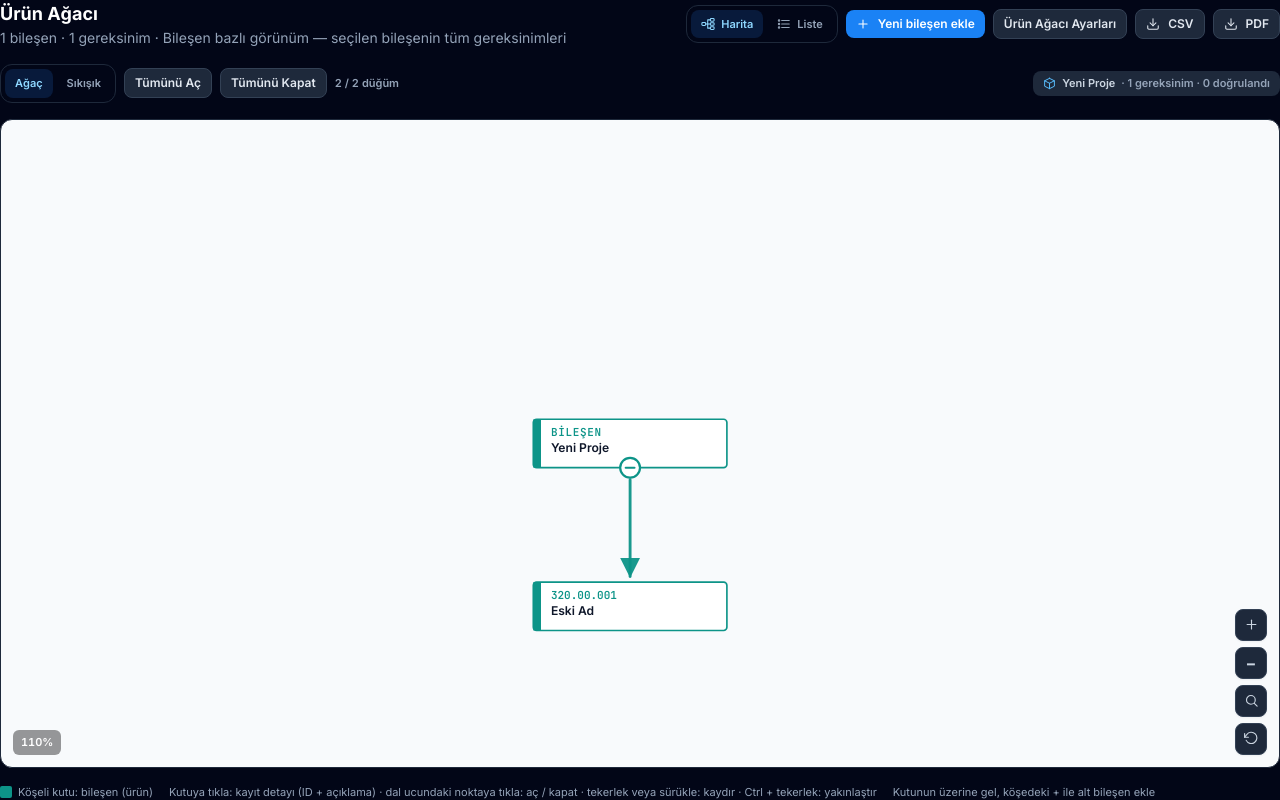
Test: Düzenleme ve silme › bağlı gereksinimi olan bileşende silme UYARISI gösterilir
Click the button with test id "comp-view-list" at point(800, 24), box [767,10,833,38]
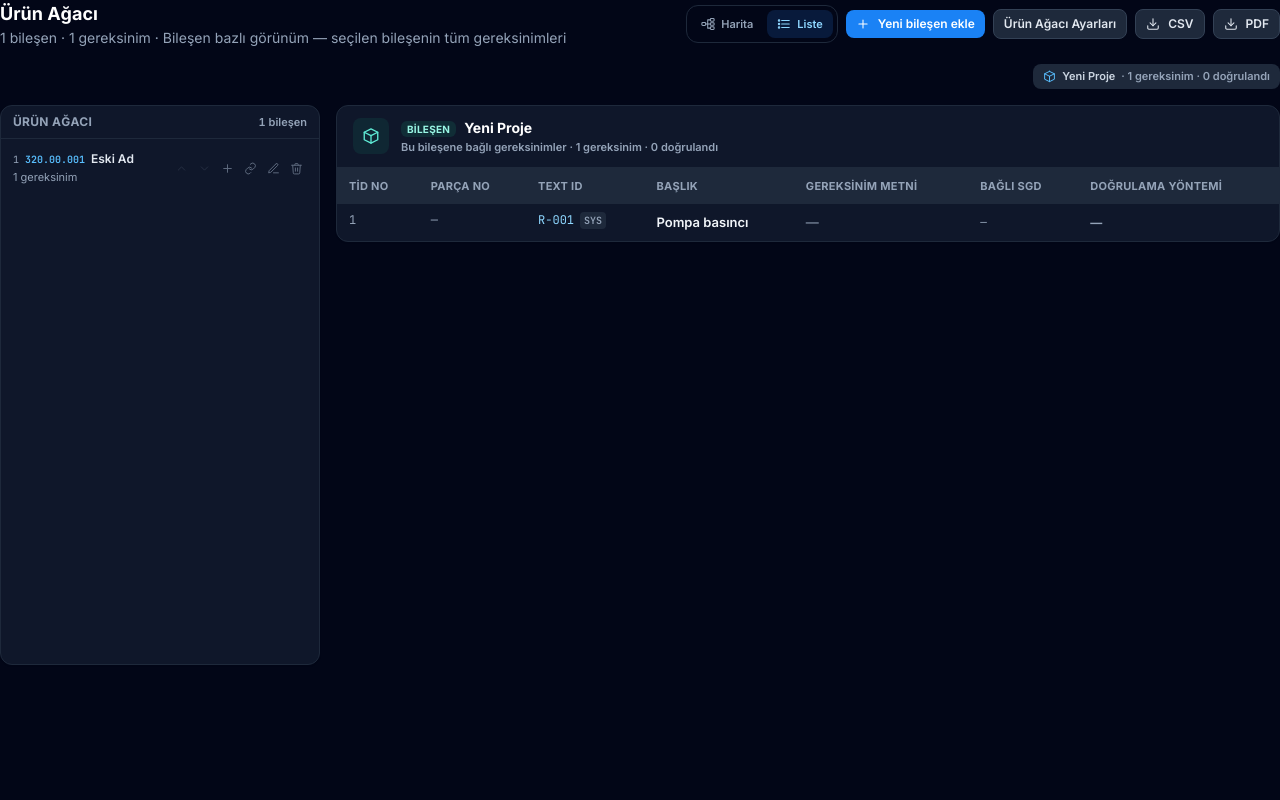
Click the button with test id "comp-delete-c1" at point(296, 168), box [286,158,307,179]
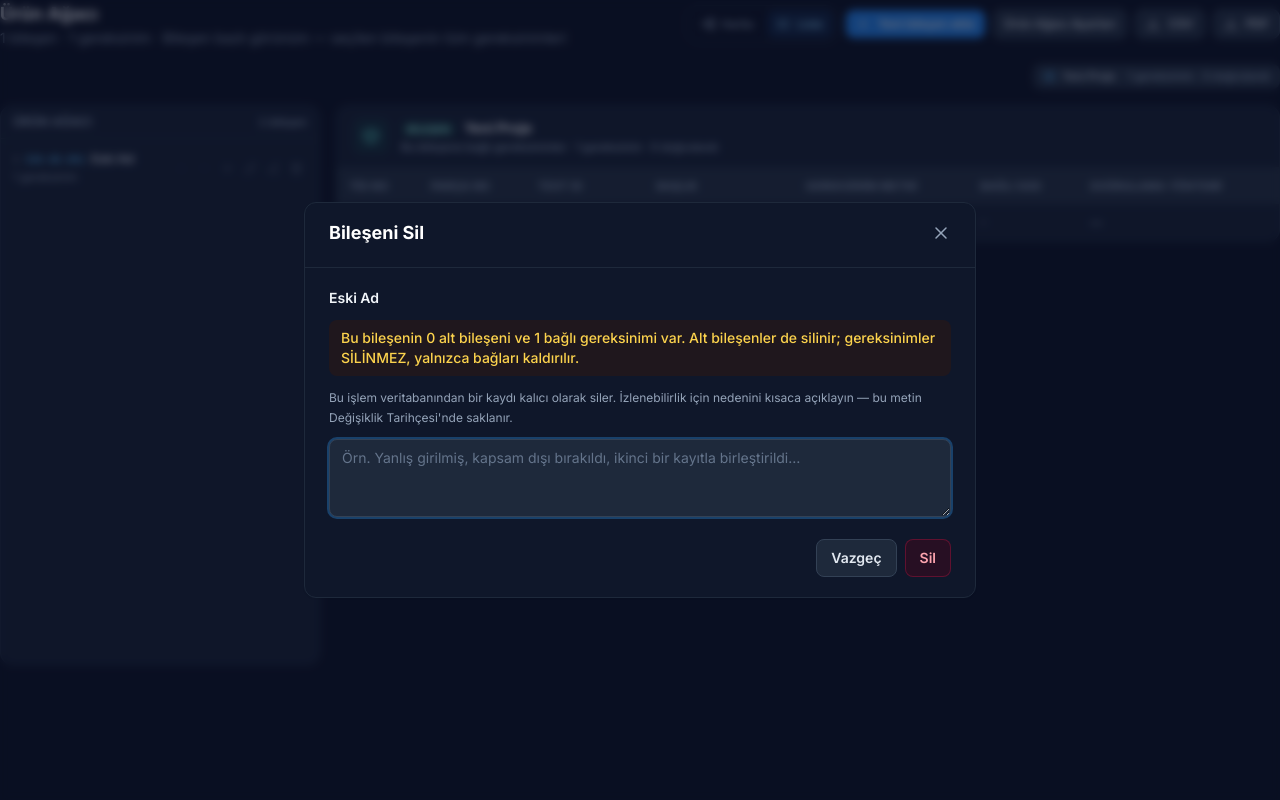
Check: the text "gereksinimi var" shows "SİLİNMEZ", box [341,329,935,366]
